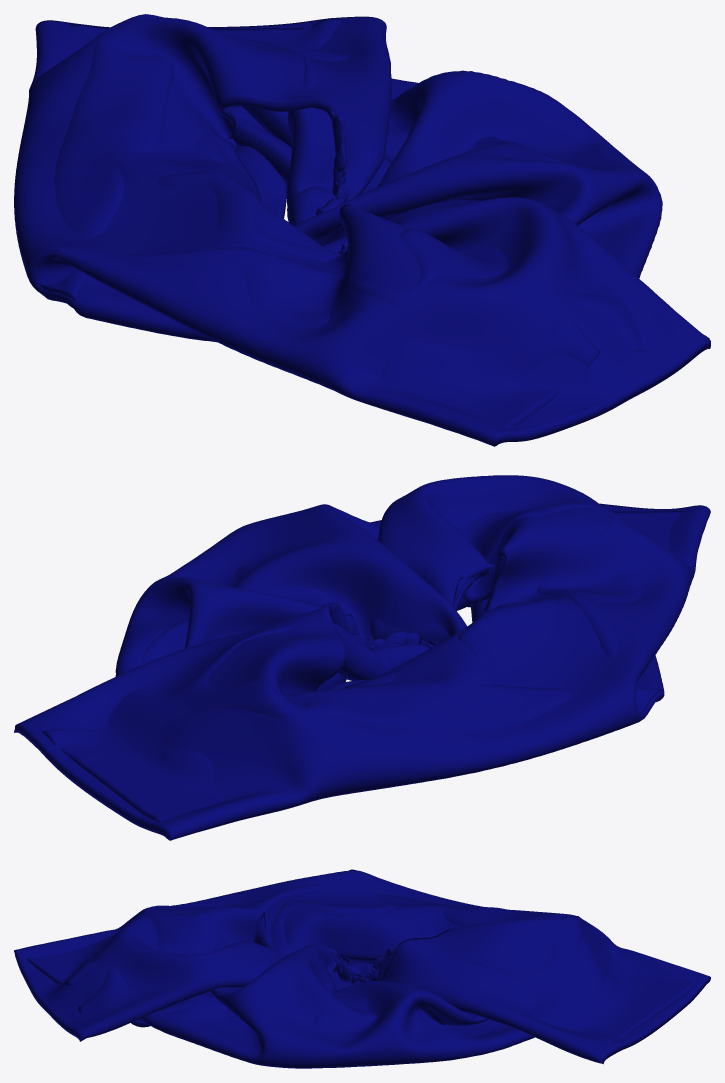
The model's file is blueShirt.fbx.
3 views of the same model, one above another, from view 1: azimuth 30°, elevation 25°; view 2: azimuth 150°, elevation 25°; view 3: azimuth 270°, elevation 25° (orthographic). The views are drawn at different scales.
Parts seen in each view (by area): view 1: Cube; view 2: Cube; view 3: Cube.
Part boxes in pixels (<box>): Cube: <box>14,14,710,446</box>; Cube: <box>14,475,710,840</box>; Cube: <box>14,869,710,1068</box>.
Size of the model in its own units: 455 by 90.6 by 757.
